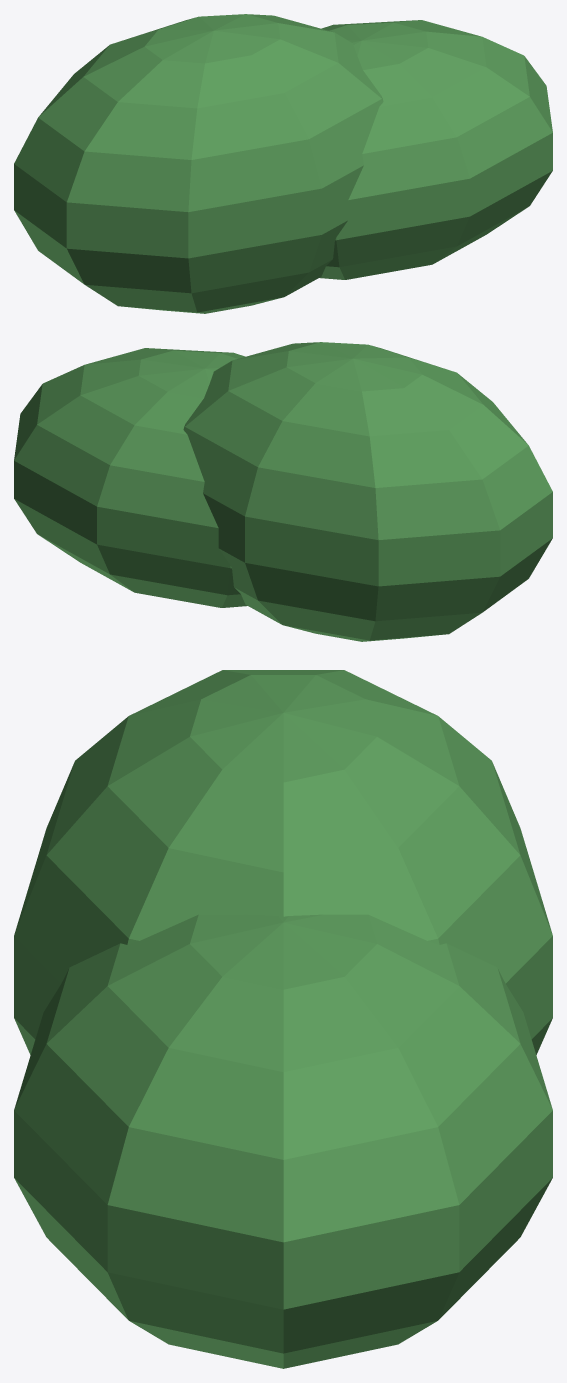
Rendered from Bush_2.fbx.
The picture shows the model from 3 angles, top to bottom: view 1: azimuth 30°, elevation 25°; view 2: azimuth 150°, elevation 25°; view 3: azimuth 270°, elevation 25°; orthographic projection. The views are drawn at different scales.
Visible parts, largest first — view 1: Bush_1, pSphere3; view 2: Bush_1, pSphere3; view 3: pSphere3, Bush_1.
Boxes of the visible parts, bbox=[...] form: Bush_1: bbox=[14, 14, 383, 313]; pSphere3: bbox=[319, 20, 552, 279]; Bush_1: bbox=[183, 342, 552, 641]; pSphere3: bbox=[14, 348, 247, 607]; pSphere3: bbox=[14, 914, 552, 1368]; Bush_1: bbox=[14, 670, 552, 1054].
Bounding box in the file's own units: 3.7 × 1.86 × 1.93.
